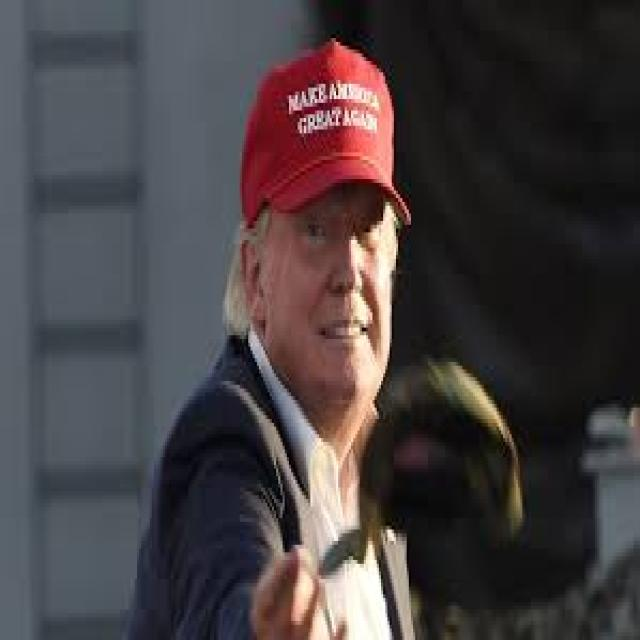3_gorra: (240, 34, 412, 226)
